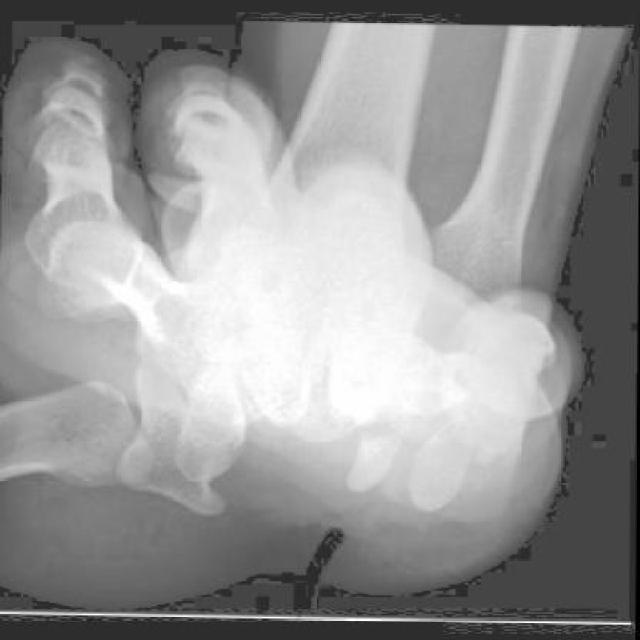Fracture: (333, 411, 407, 459)
